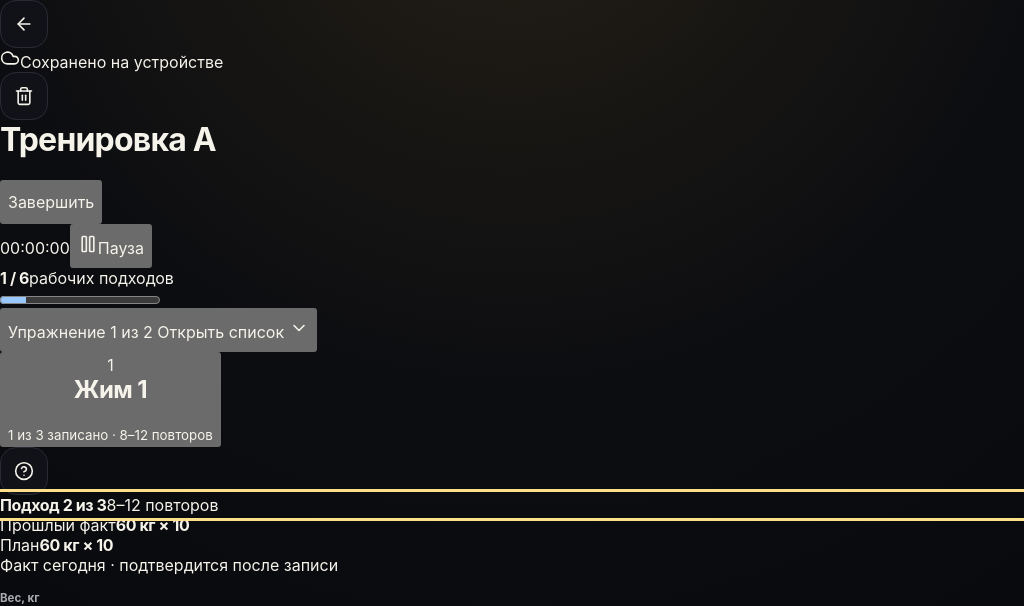
it: completion and timed-entry edge cases › shows local completion immediately when server synchronization never responds
The image size is (1024, 606).
Click the button "Завершить" at {"x": 51, "y": 202}, box [0,180,102,224]
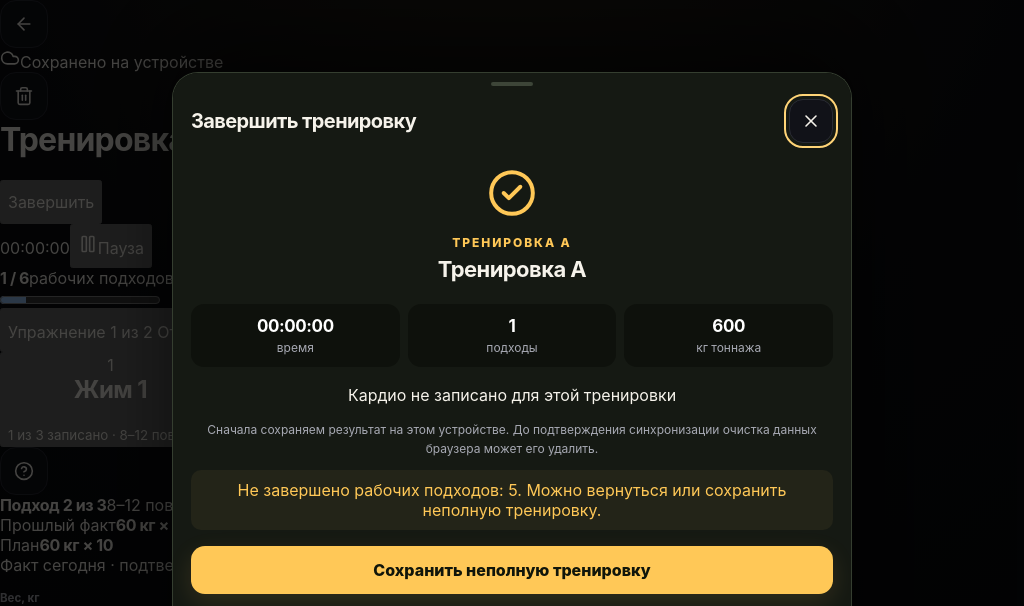
Click the button "Сохранить неполную тренировку" at {"x": 512, "y": 570}, box [191,546,833,594]
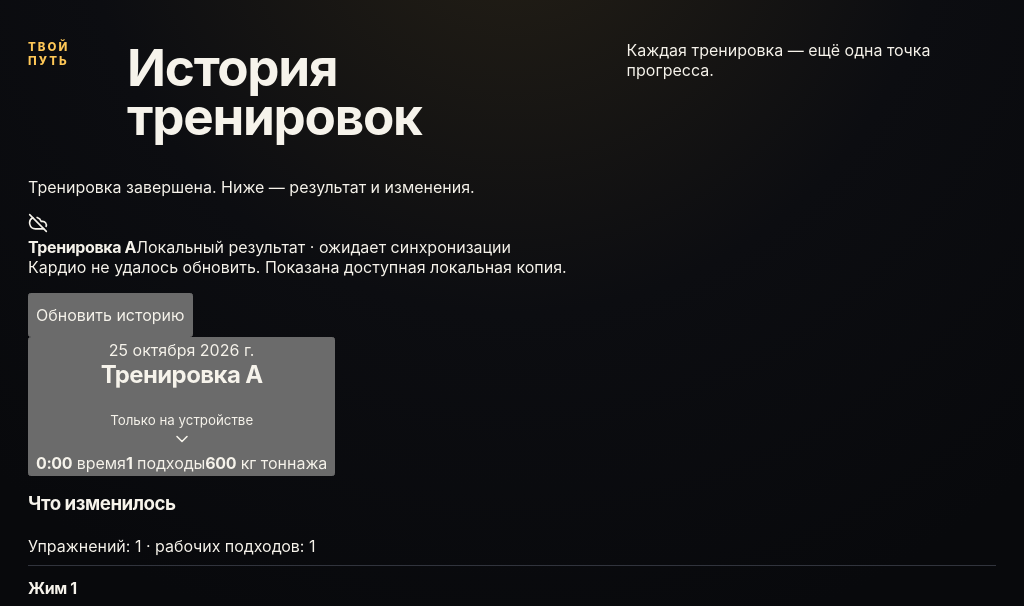
Result: the text "Тренировка завершена. Ниже — результат и изменения." is shown at [28,177,475,197]
Result: the text "Только на устройстве" is shown at [110,412,253,428]
